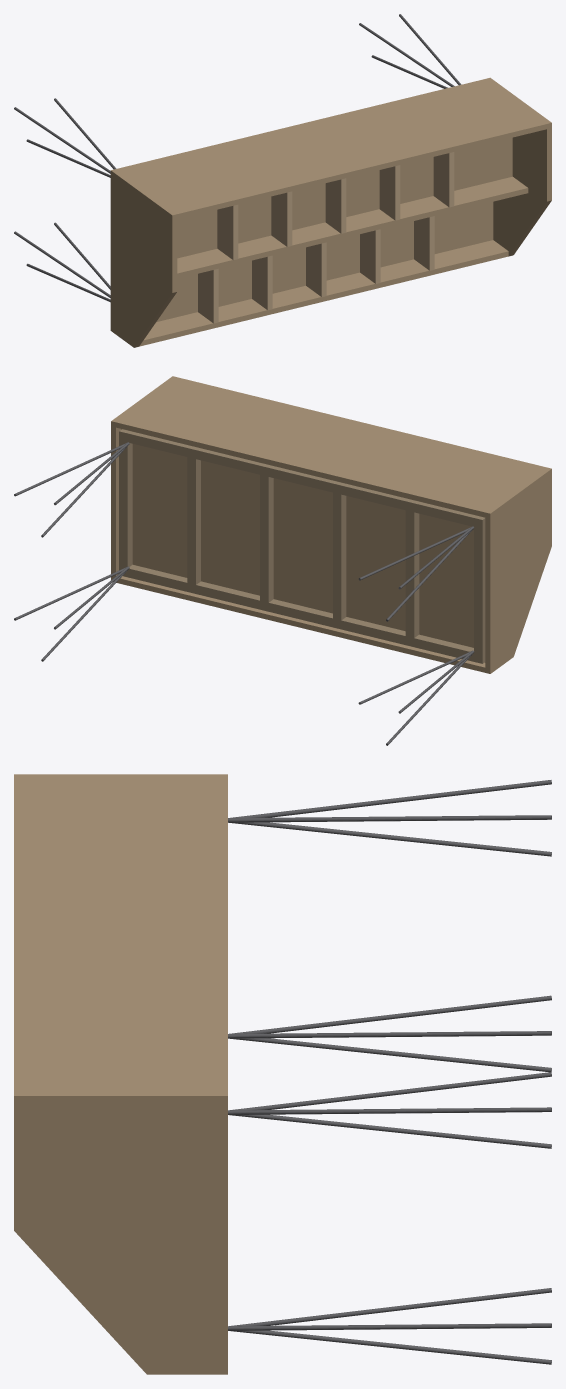
Rendered from vinyl_record_storage.glb.
The picture shows the model from 3 angles, top to bottom: view 1: azimuth 30°, elevation 25°; view 2: azimuth 150°, elevation 25°; view 3: azimuth 270°, elevation 25°; orthographic projection. The views are drawn at different scales.
Visible parts, largest first — view 1: back, side_left, back_shelf_bottom, bottom, front, shelf_divider, side_right, back_divider_2, back_divider_1, back_divider_3, back_divider_4, back_divider_5 (+8 smaller); view 2: bottom, back, side_left, frame_front, frame_back, front, frame_right, frame_left, frame_cross_4, frame_cross_3, frame_cross_2, frame_cross_1 (+5 smaller); view 3: back, side_right, leg_back_right, leg_front_right, leg_back_left, leg_front_left, side_left.
Boxes of the visible parts, box(x1,y1,x2,y2) form: back: box(116, 79, 546, 219); side_left: box(110, 169, 177, 347); back_shelf_bottom: box(177, 137, 512, 258); bottom: box(156, 202, 493, 321); front: box(139, 240, 508, 346); shelf_divider: box(177, 176, 528, 278); side_right: box(486, 77, 551, 256); back_divider_2: box(271, 191, 292, 246); back_divider_1: box(217, 204, 238, 260); back_divider_3: box(325, 178, 346, 233); back_divider_4: box(379, 165, 400, 220); back_divider_5: box(433, 152, 454, 207); bottom: box(121, 429, 485, 662); back: box(116, 377, 546, 517); side_left: box(485, 467, 551, 673); frame_front: box(127, 564, 473, 661); frame_back: box(127, 431, 476, 526); front: box(116, 576, 485, 672); frame_right: box(119, 429, 132, 577); frame_left: box(474, 515, 485, 663); frame_cross_4: box(187, 457, 200, 584); frame_cross_3: box(260, 475, 273, 602); frame_cross_2: box(333, 492, 346, 620); frame_cross_1: box(405, 510, 419, 637); back: box(14, 778, 227, 1091); side_right: box(14, 1091, 227, 1374); leg_back_right: box(228, 1072, 551, 1148); leg_front_right: box(228, 1288, 551, 1364); leg_back_left: box(228, 780, 551, 856); leg_front_left: box(228, 995, 551, 1072); side_left: box(14, 774, 227, 778).
Size of the model in its own units: 67.15 by 27.6 by 46.53.
